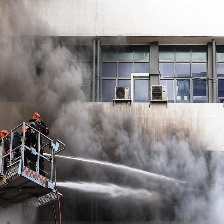smoke: (1, 1, 221, 224)
